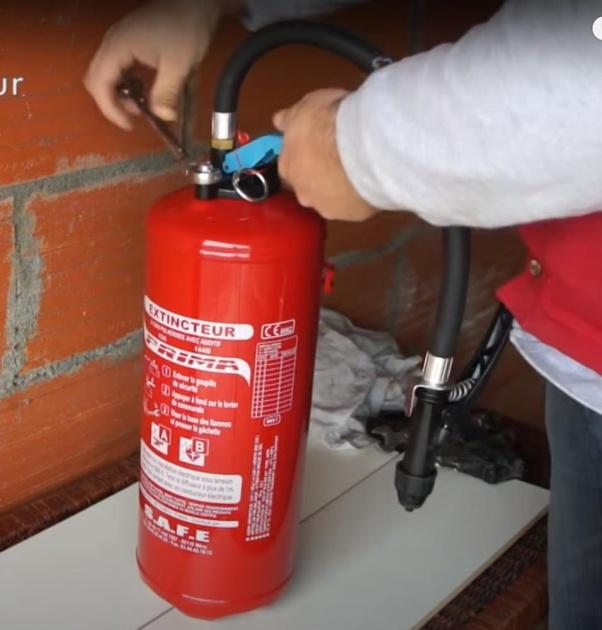APAR: (132, 146, 328, 621)
